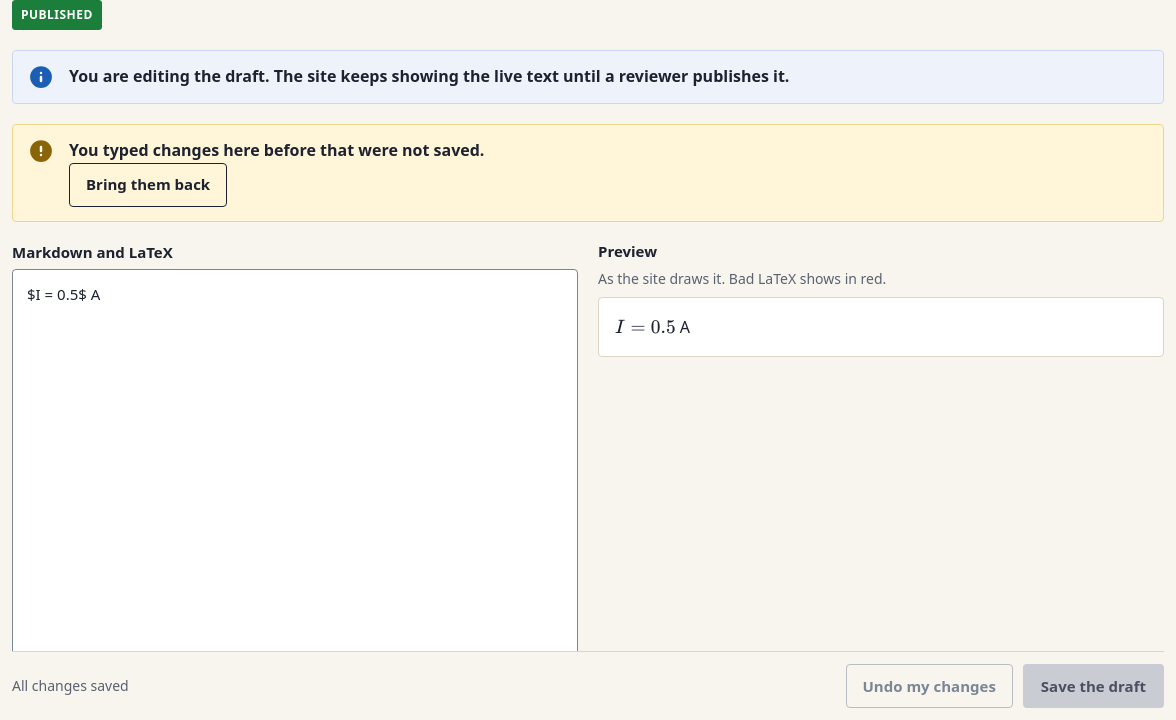
it: Editor › offers back what was typed and not saved
Expected: the text "You typed changes here before that were not saved." is shown, [69,139,484,161]
Click the button "Bring them back": (148, 185) [69,163,227,207]
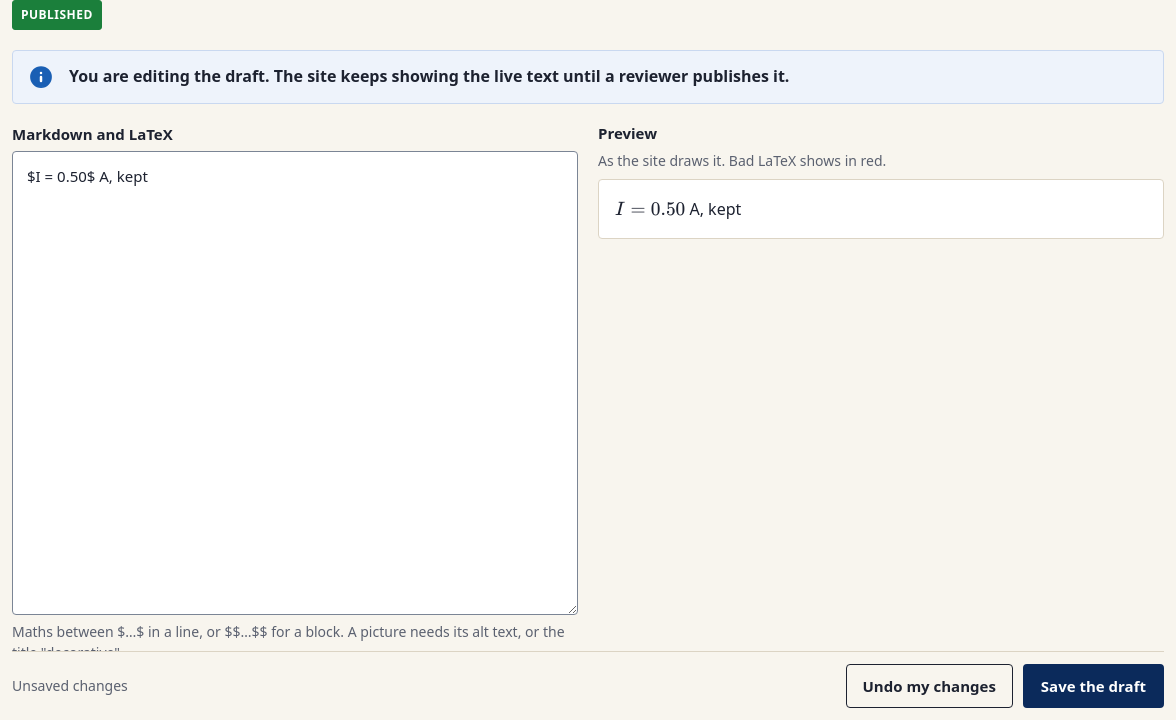
Now the text box labelled "Markdown and LaTeX" holds "$I = 0.50$ A, kept", box [12,151,578,615]
Now the text "You typed changes here before that were not saved." is gone
